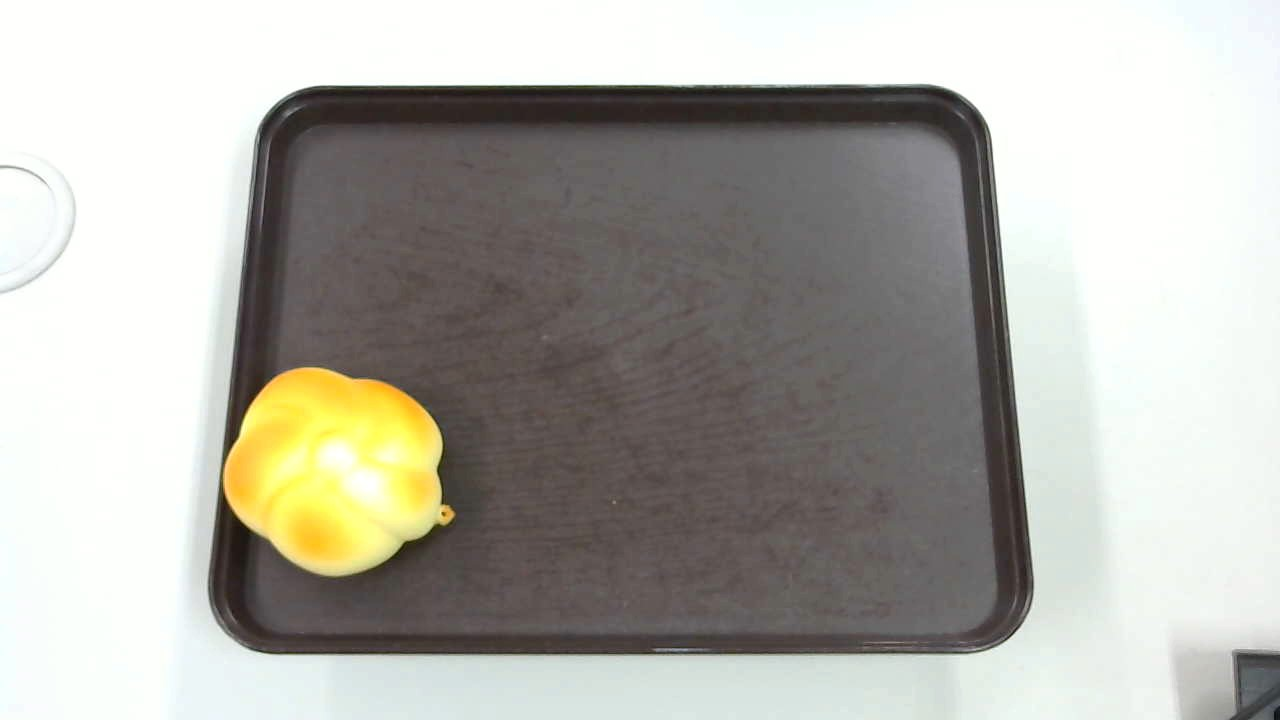twist bread: (223, 366, 456, 577)
